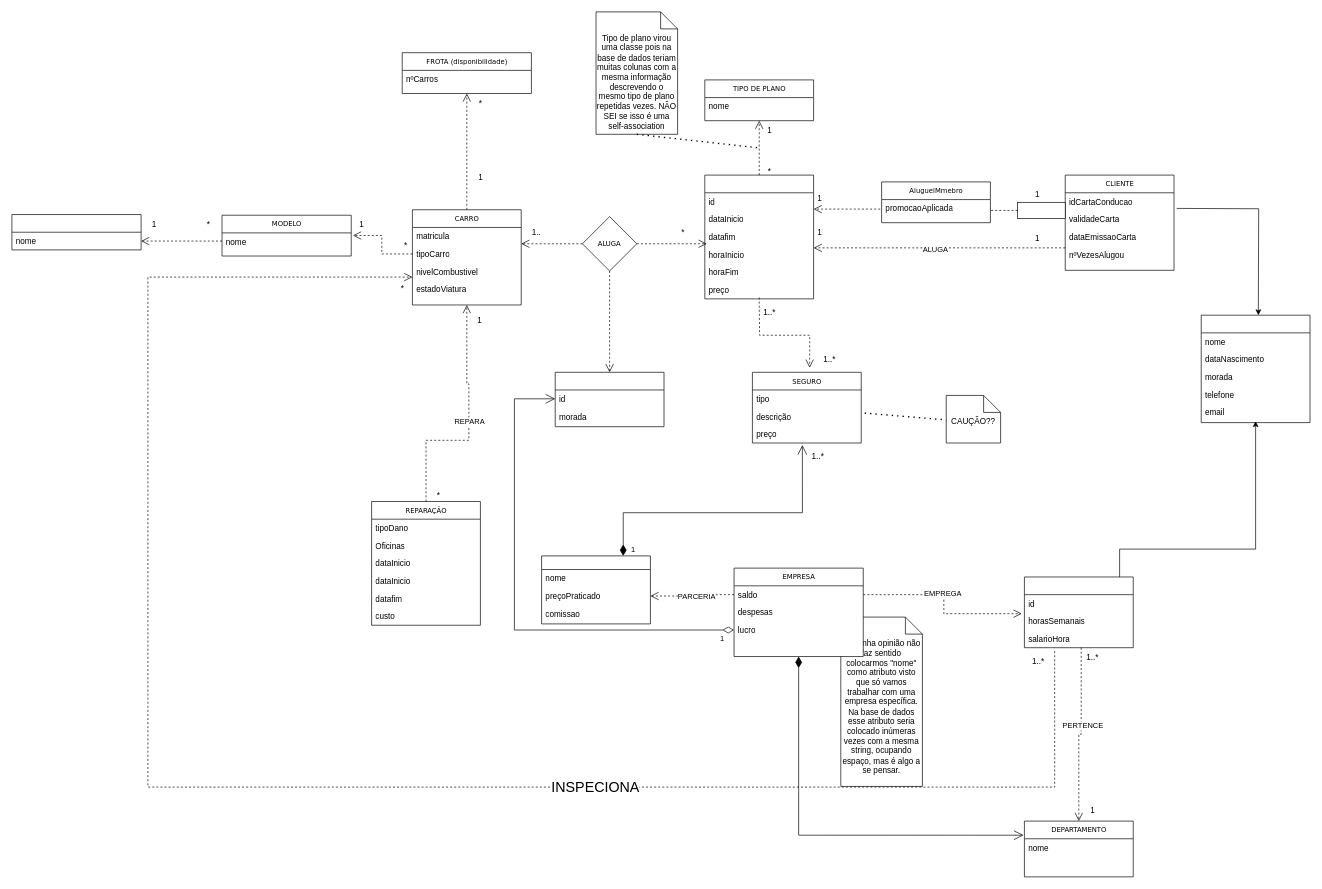
Image size: 1322x889. Some labels were removed from this diagram. The box of each missing label's shape, as (x1, y1, x2, y2) in pixels:
FILIAL (Garagem): (555, 372, 664, 427)
FUNCIONÁRIO: (1024, 576, 1133, 648)
MARCA: (11, 214, 141, 250)
membro: (1017, 202, 1065, 219)
PESSOA: (1201, 314, 1310, 423)
PLANO DE ALUGUER: (704, 174, 814, 299)
SEGURADORA: (541, 555, 650, 624)
